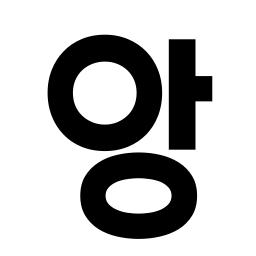Gaji: (163, 66, 206, 115)
